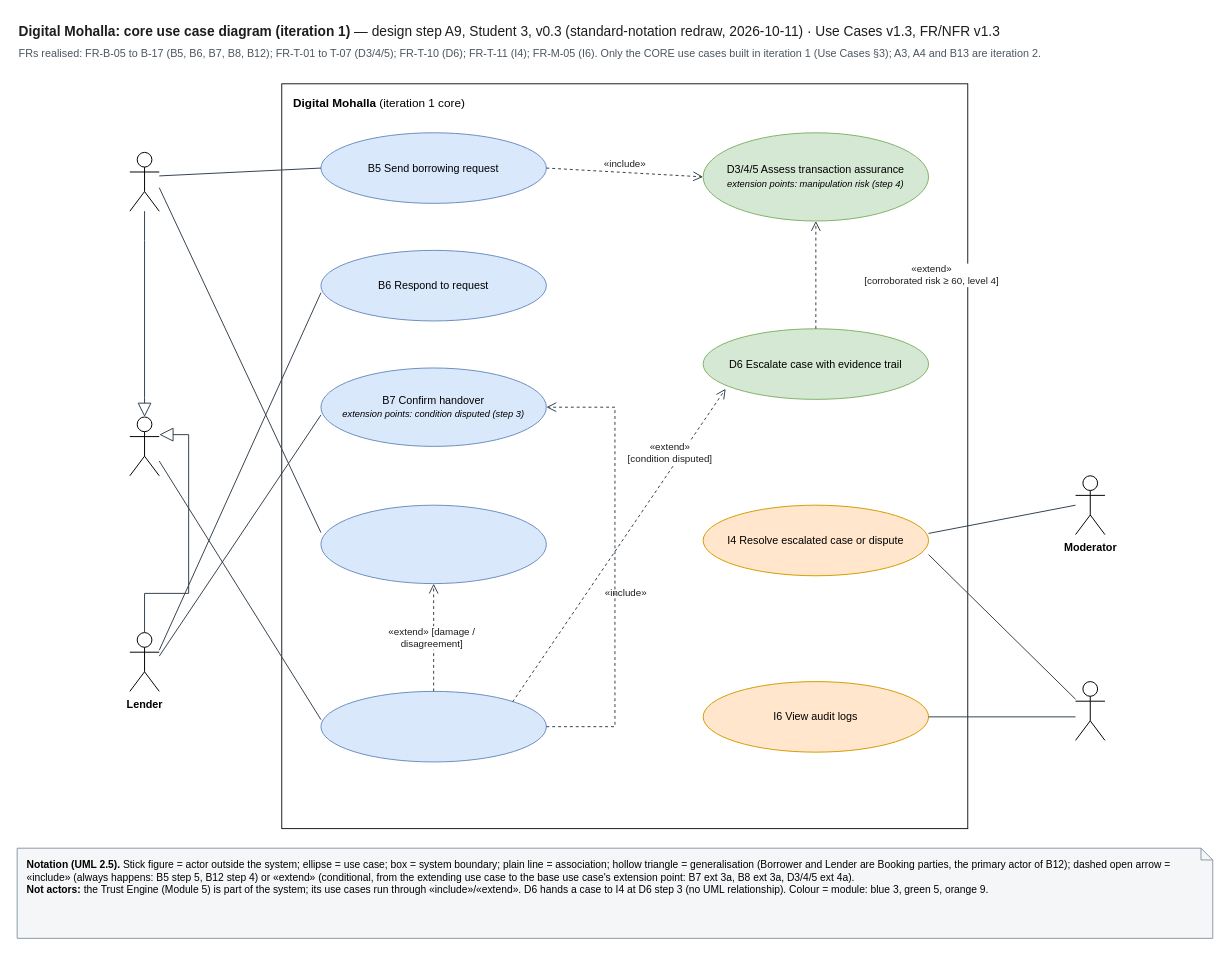
This 1230x956 diagram has some shape labels left out. The shapes that lost their labels are listed below. From the top down, each one's centre as x and y in pixels, then its label:
the point at 144,181: Borrower
the point at 144,446: Booking party {abstract}
the point at 433,544: B8 Return item and complete extension points: damage or disagreement (step 3)
the point at 433,726: B12 Raise dispute
the point at 1090,710: Admin
